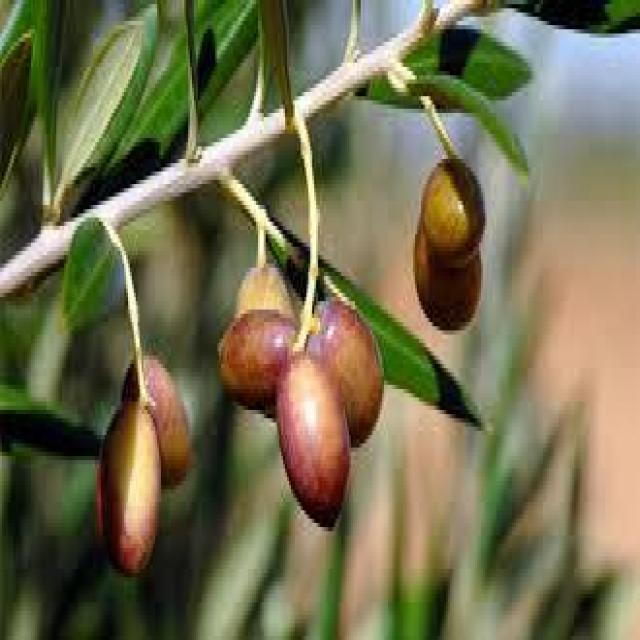Healthy: (275, 347, 349, 529), (100, 397, 159, 577), (420, 156, 487, 268)
